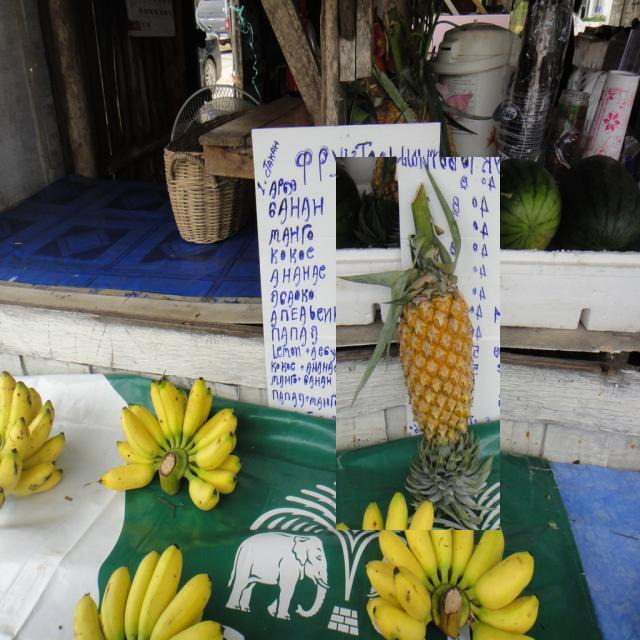Banana: (364, 488, 542, 640), (99, 377, 243, 511), (74, 542, 226, 640), (0, 371, 66, 505)
